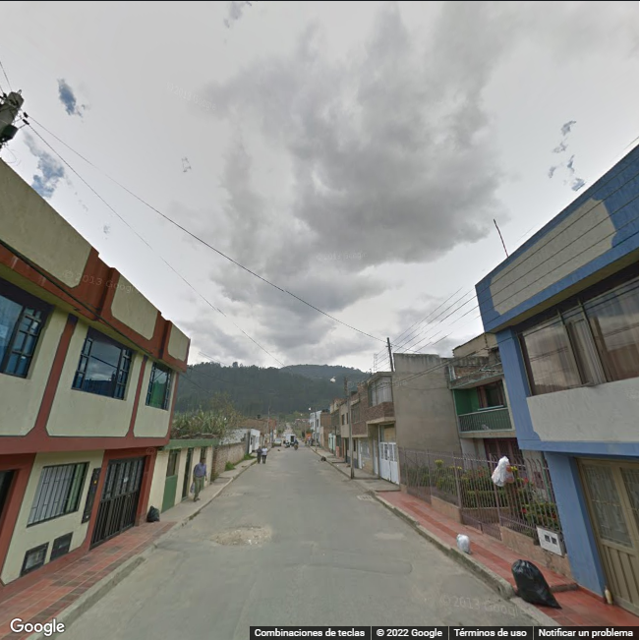D40: (213, 522, 271, 546)
